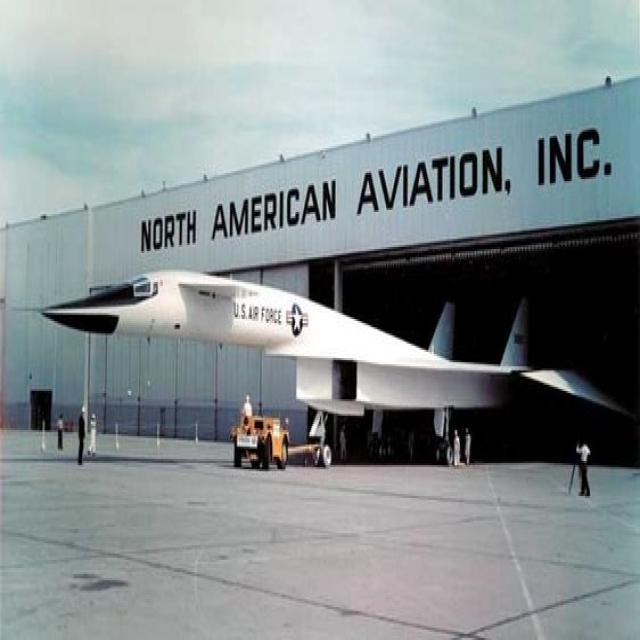MIL_Plane: (10, 268, 638, 469)
